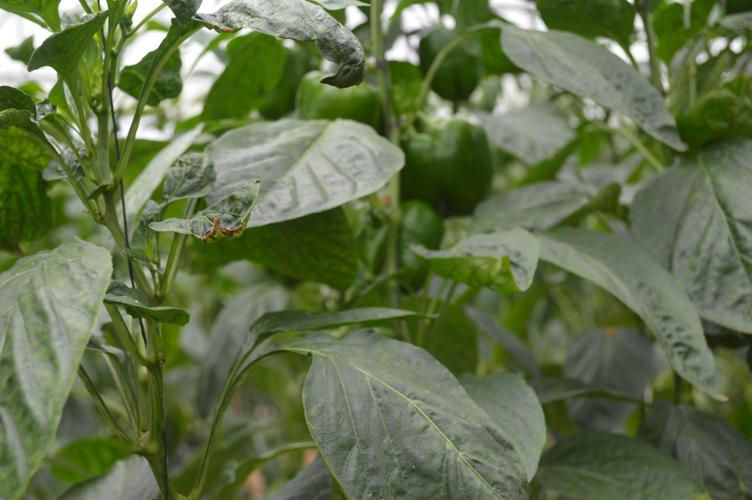BellPepper: (399, 116, 488, 209), (375, 202, 432, 281), (298, 70, 373, 121)
